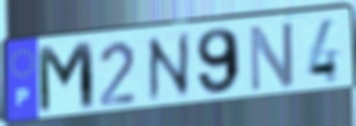2: (97, 39, 139, 110)
4: (302, 17, 345, 86)
9: (195, 26, 245, 99)
M: (34, 39, 99, 118)
N: (144, 29, 195, 106), (248, 19, 297, 96)
